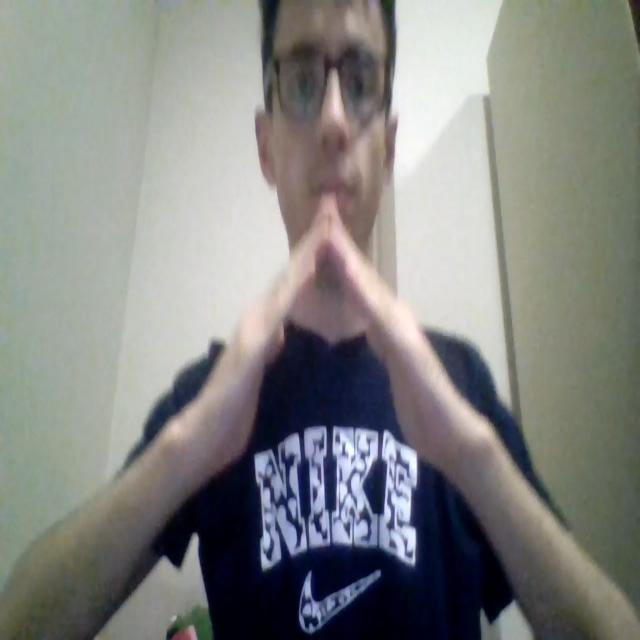house: (167, 202, 480, 489)
